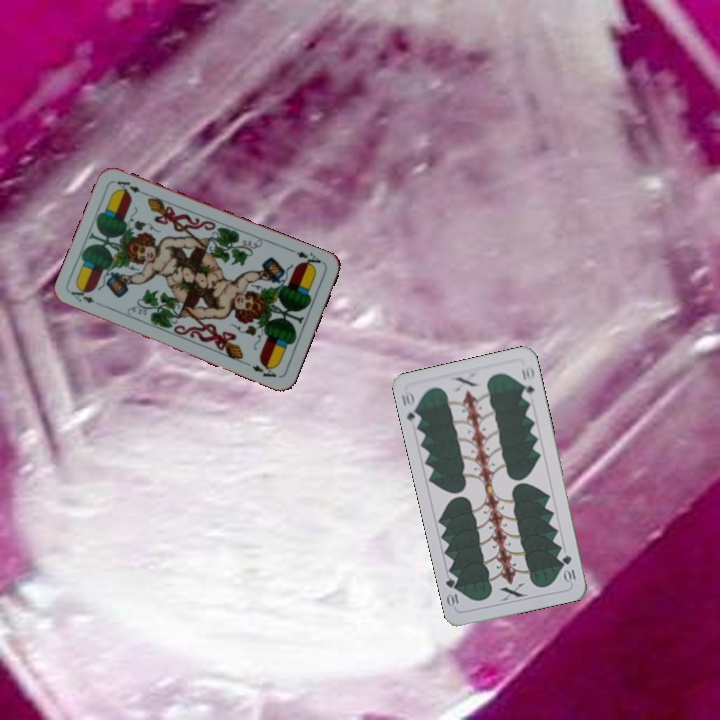EA: (287, 245, 326, 271), (67, 285, 97, 306)
G10: (398, 387, 423, 428), (558, 551, 578, 585)
